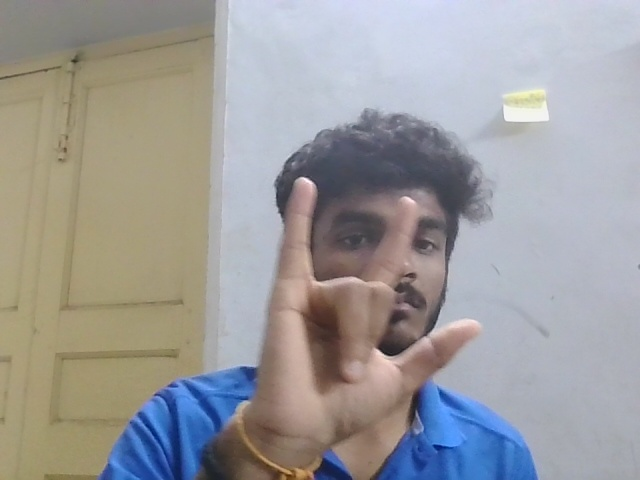Iloveyou: (250, 154, 491, 470)
